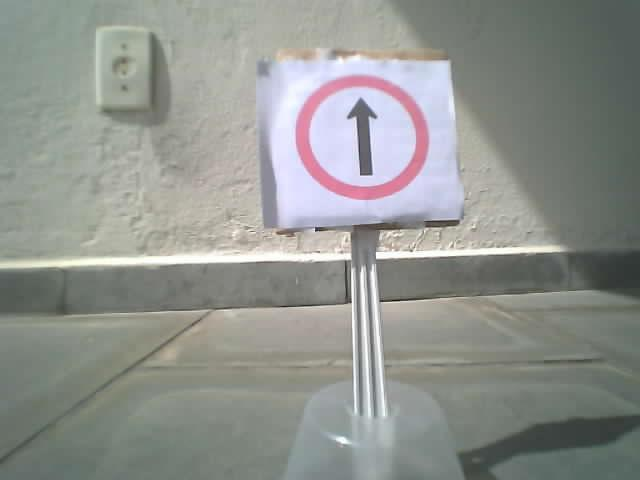R-26_frente: (295, 75, 426, 200)
